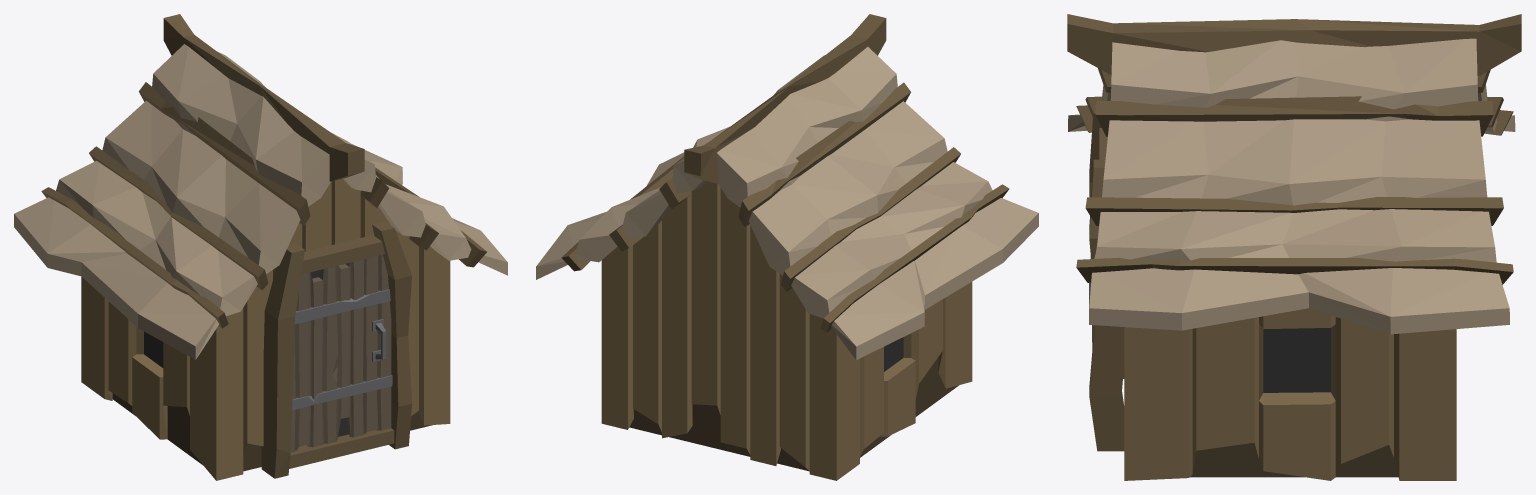
Rendered from SM_Bld_Rickety_House_01.glb.
3 views of the same model, side by side, from view 1: azimuth 30°, elevation 25°; view 2: azimuth 150°, elevation 25°; view 3: azimuth 270°, elevation 25° (orthographic). The views are drawn at different scales.
Parts seen in each view (by area): view 1: SM_Bld_Rickety_House_01_part00; view 2: SM_Bld_Rickety_House_01_part00; view 3: SM_Bld_Rickety_House_01_part00.
Boxes of the visible parts, bbox=[...] form: SM_Bld_Rickety_House_01_part00: bbox=[14, 14, 507, 480]; SM_Bld_Rickety_House_01_part00: bbox=[536, 14, 1038, 480]; SM_Bld_Rickety_House_01_part00: bbox=[1067, 14, 1521, 480].
Bounding box in the file's own units: 3.62 × 3.12 × 3.26.
Materials: 1 (1 with a texture image).
